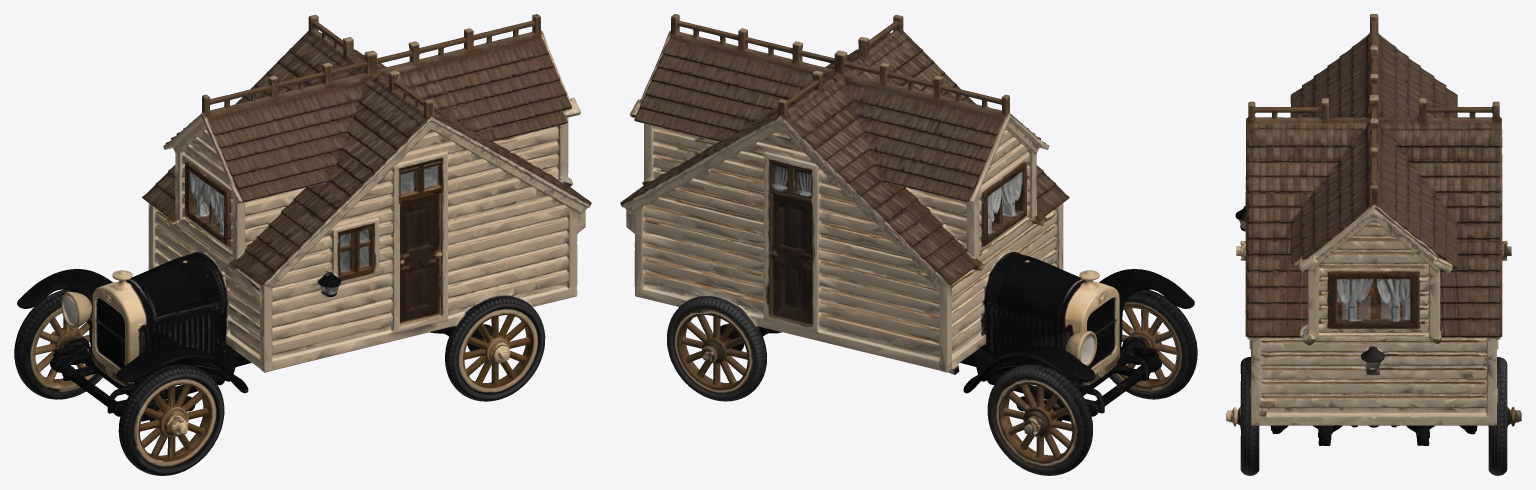
File: house.glb
3 renders of one model, left to right at view 1: azimuth 30°, elevation 25°; view 2: azimuth 150°, elevation 25°; view 3: azimuth 270°, elevation 25°, orthographic. The views are drawn at different scales.
Visible parts, largest first — view 1: object 1, wheel_3, wheel_1, wheel_2; view 2: object 1, wheel_2, wheel_0, wheel_3; view 3: object 1, wheel_0, wheel_1.
Part boxes in pixels (x1,y1,x2,y2): object 1: (14,14,591,475); wheel_3: (128,372,223,474); wheel_1: (454,303,544,400); wheel_2: (23,301,102,398); object 1: (620,14,1197,475); wheel_2: (988,371,1083,474); wheel_0: (667,303,757,399); wheel_3: (1109,295,1187,398); object 1: (1226,14,1521,475); wheel_0: (1488,362,1509,471); wheel_1: (1238,363,1259,471).
Bounding box in the file's own units: 1.9 × 1.22 × 0.9582.
Materials: 1 (1 with a texture image).
